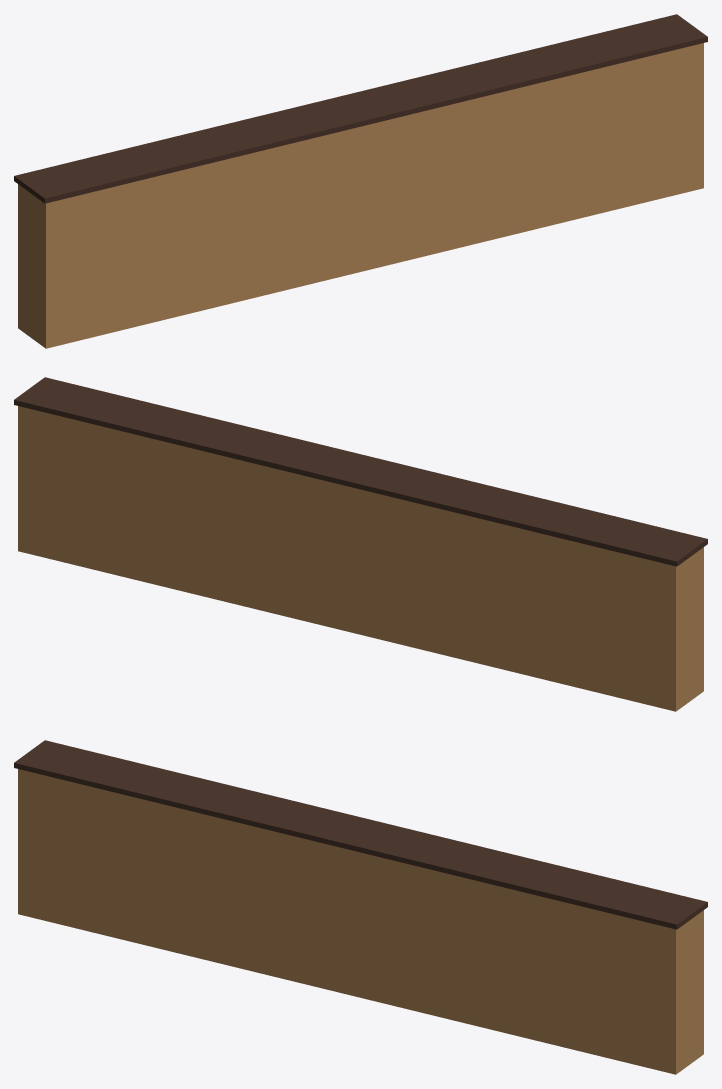
3 views of the same model, one above another, from view 1: azimuth 30°, elevation 25°; view 2: azimuth 150°, elevation 25°; view 3: azimuth 330°, elevation 25° (orthographic).
Visible parts, largest first — view 1: photo_wall; view 2: photo_wall; view 3: photo_wall.
Part boxes in pixels (bbox=[...]): photo_wall: bbox=[14, 14, 707, 348]; photo_wall: bbox=[14, 377, 707, 711]; photo_wall: bbox=[14, 740, 707, 1074].
Size of the model in its own units: 5.44 by 0.44 by 1.19.
